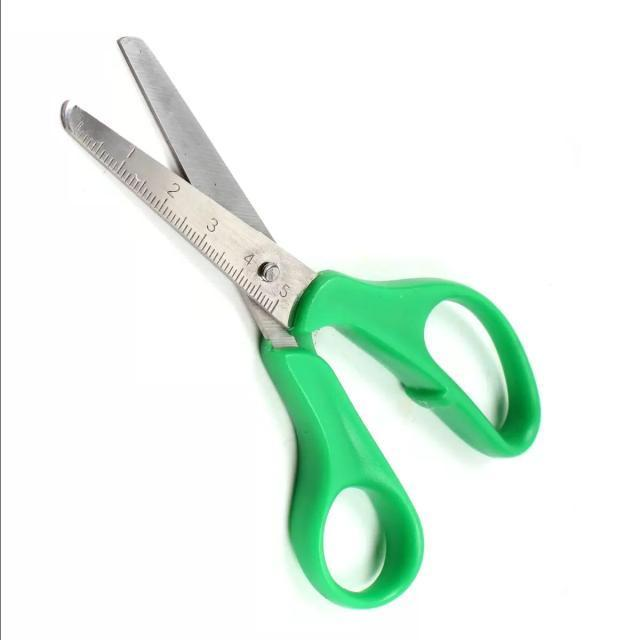scissor: (58, 36, 542, 608)
